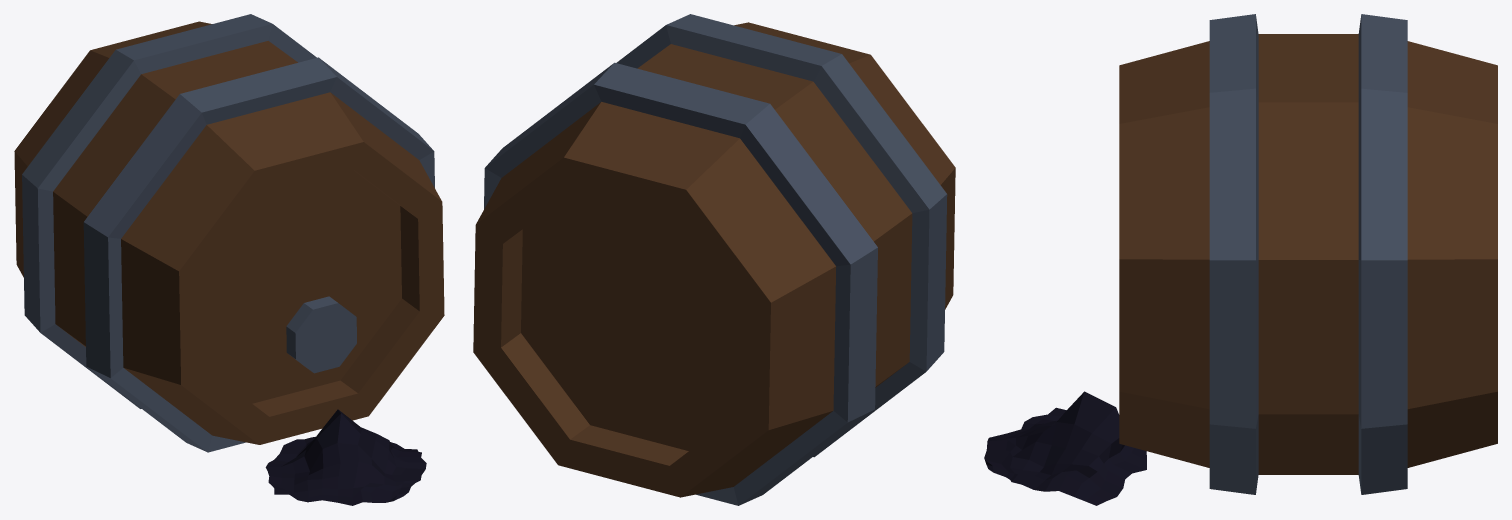
File: barrel_gunpowder_test.glb
The picture shows the model from 3 angles, left to right: view 1: azimuth 30°, elevation 25°; view 2: azimuth 150°, elevation 25°; view 3: azimuth 270°, elevation 25°; orthographic projection. The views are drawn at different scales.
Parts seen in each view (by area): view 1: Cylinder, Plane; view 2: Cylinder; view 3: Cylinder, Plane.
Boxes of the visible parts, box(x1,y1,x2,y2) form: Cylinder: box(14, 14, 444, 452); Plane: box(265, 409, 426, 505); Cylinder: box(473, 14, 955, 505); Cylinder: box(1119, 14, 1497, 494); Plane: box(984, 391, 1146, 505).
Bounding box in the file's own units: 1.75 × 1.75 × 2.01.
